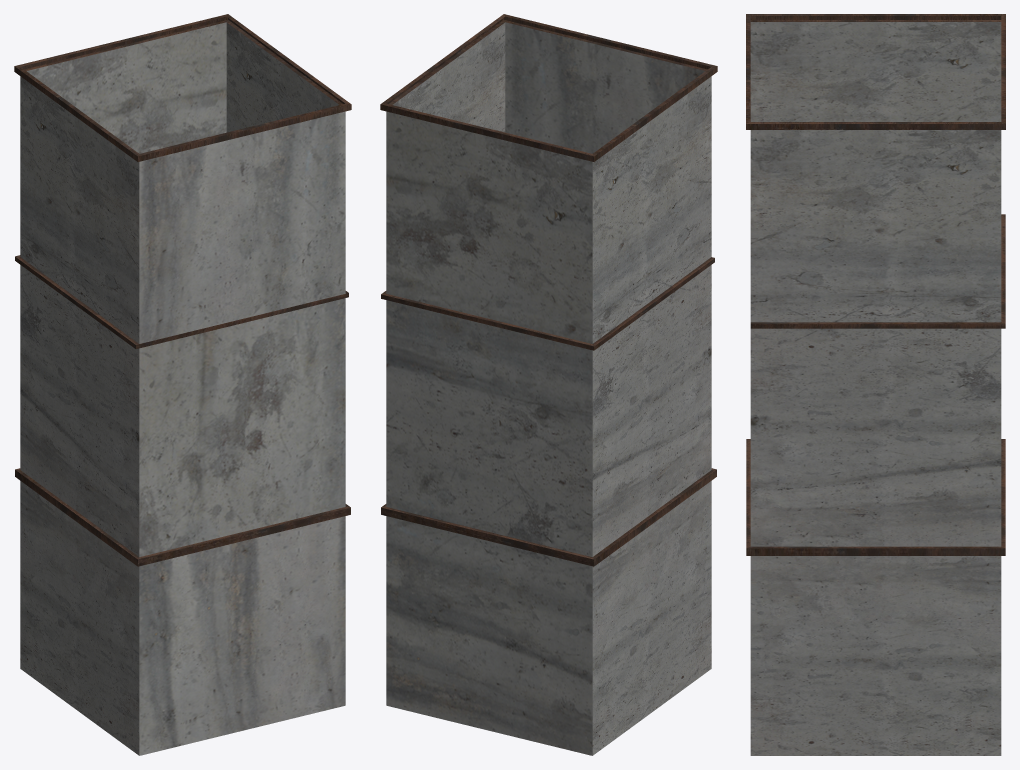
The model's file is Roof_S05.fbx.
The picture shows the model from 3 angles, left to right: view 1: azimuth 30°, elevation 25°; view 2: azimuth 150°, elevation 25°; view 3: azimuth 270°, elevation 25°; orthographic projection. The views are drawn at different scales.
Parts seen in each view (by area): view 1: Rf_01 (3); view 2: Rf_01 (3); view 3: Rf_01 (3).
Boxes of the visible parts, left/top/right/bottom form: Rf_01 (3): left=14, top=14, right=351, bottom=755; Rf_01 (3): left=380, top=14, right=717, bottom=755; Rf_01 (3): left=746, top=14, right=1005, bottom=755.
Bounding box in the file's own units: 78.2 × 210 × 78.2.
